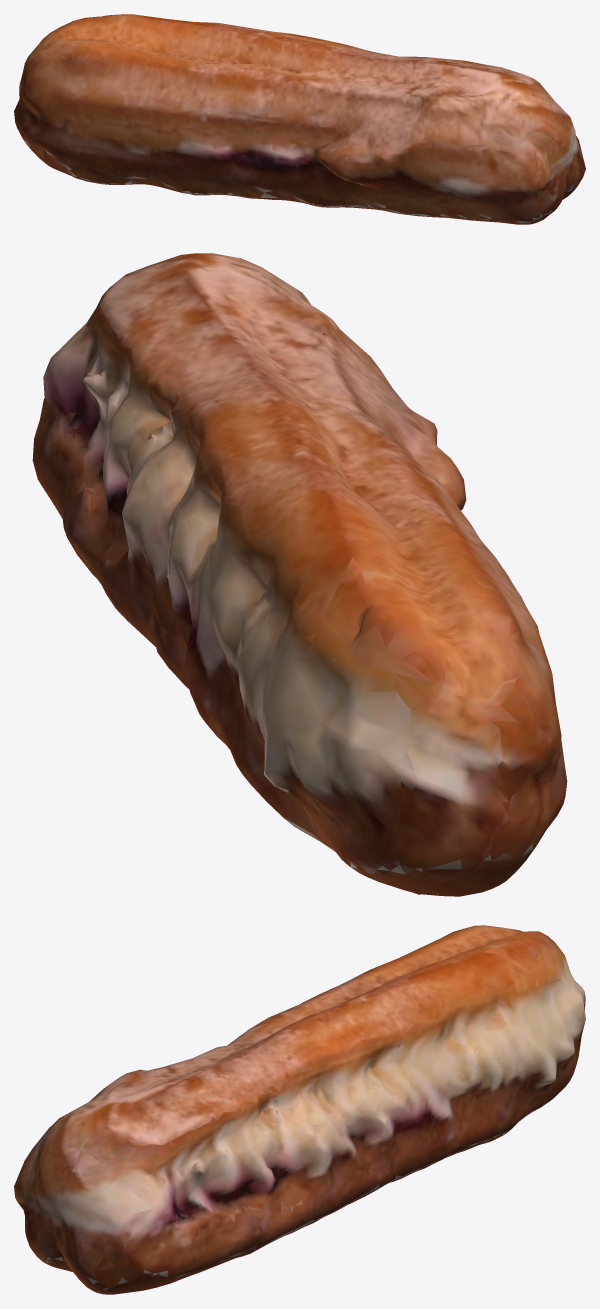
File: eclaire_4540.obj
3 renders of one model, top to bottom at view 1: azimuth 30°, elevation 25°; view 2: azimuth 150°, elevation 25°; view 3: azimuth 270°, elevation 25°, orthographic. The views are drawn at different scales.
Bounding box in the file's own units: 93.79 × 31.59 × 91.31.
1 material, 1 textured.
